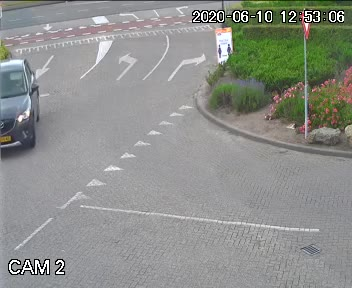car: (0, 53, 51, 161)
